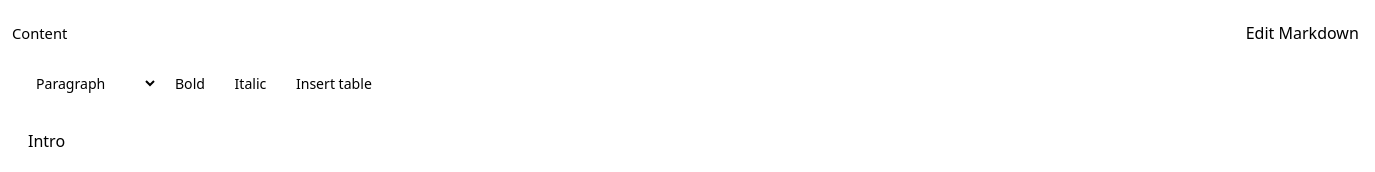
Test: SourceNoteContentField visual editor › inserts a table from the toolbar and offers table actions inside it
Click the button "Insert table" at (334, 84), box [283, 66, 385, 101]
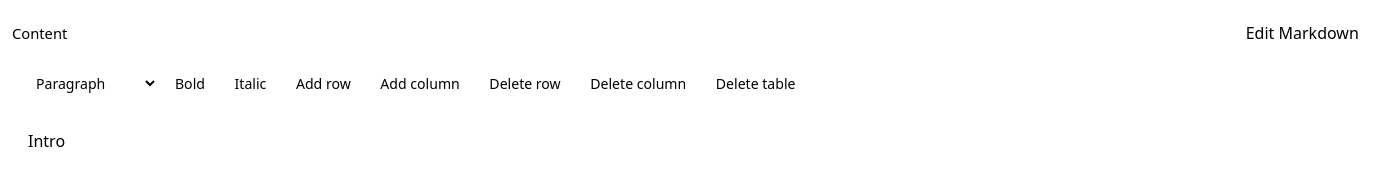
Result: the button "Add row" is shown at [283, 66, 364, 101]
